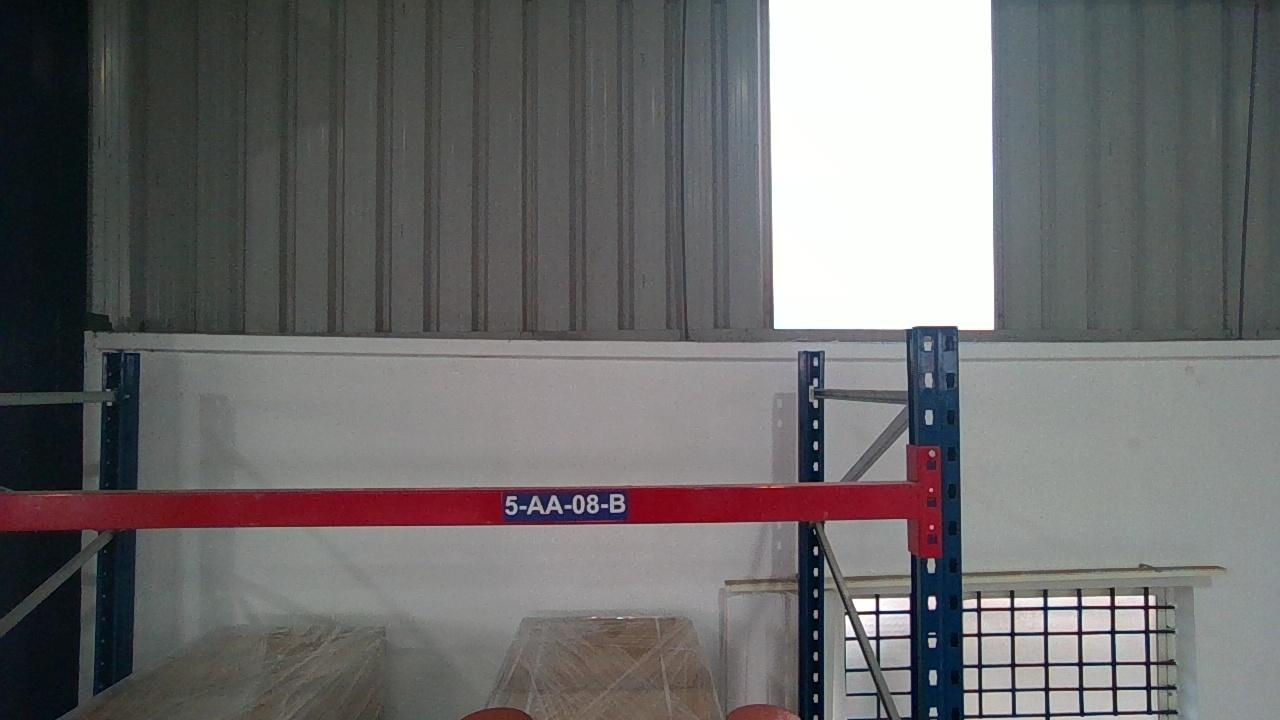h_rack: (2, 488, 920, 528)
